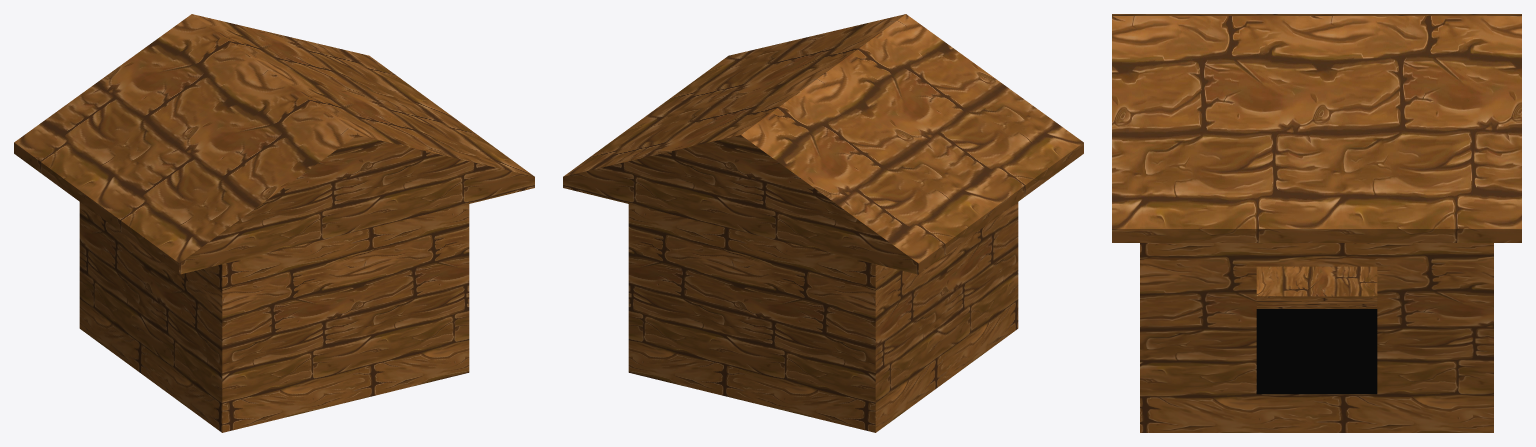
The model's file is Tower1.fbx.
3 renders of one model, left to right at view 1: azimuth 30°, elevation 25°; view 2: azimuth 150°, elevation 25°; view 3: azimuth 270°, elevation 25°, orthographic. The views are drawn at different scales.
Visible parts, largest first — view 1: Cube; view 2: Cube; view 3: Cube, Cube.001, Cube.002.
Part boxes in pixels (<box>): Cube: <box>14,14,534,432</box>; Cube: <box>563,14,1083,432</box>; Cube: <box>1112,14,1521,432</box>; Cube.001: <box>1256,309,1377,394</box>; Cube.002: <box>1256,266,1377,308</box>.
Size of the model in its own units: 288 by 213 by 232.
2 materials, 1 textured.
